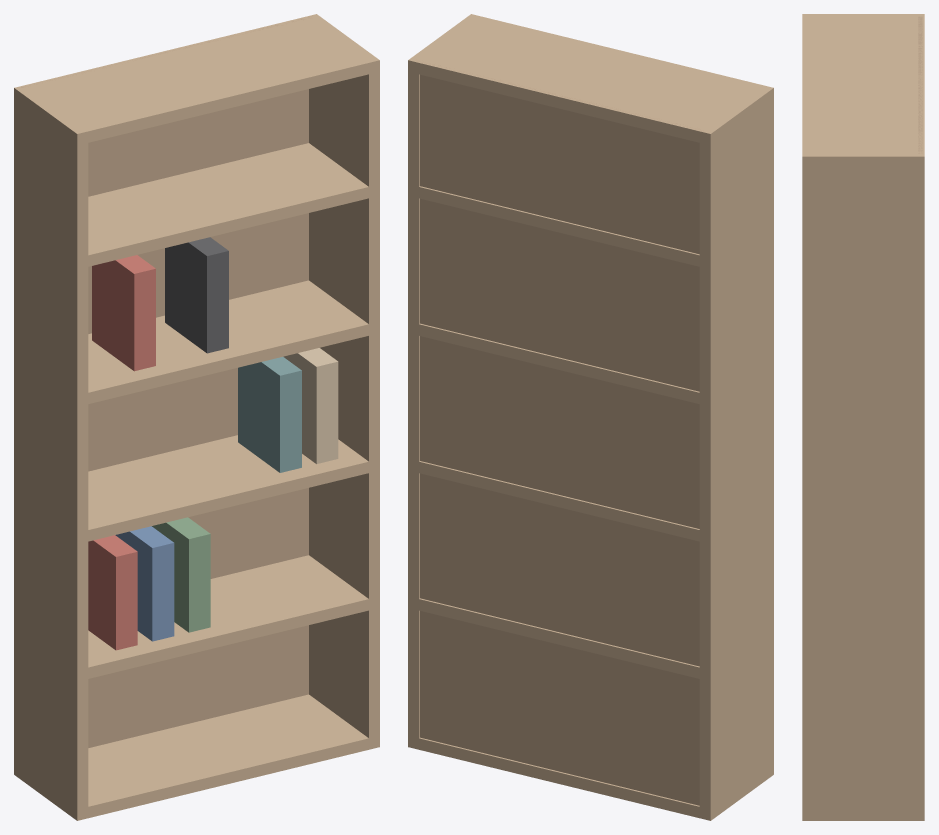
Rendered from bookshelf.glb.
3 renders of one model, left to right at view 1: azimuth 30°, elevation 25°; view 2: azimuth 150°, elevation 25°; view 3: azimuth 270°, elevation 25°, orthographic. The views are drawn at different scales.
Visible parts, largest first — view 1: bookshelf; view 2: bookshelf; view 3: bookshelf.
Part boxes in pixels (x1=…): bookshelf: x1=14, y1=14, x2=379, y2=820; bookshelf: x1=408, y1=14, x2=773, y2=820; bookshelf: x1=802, y1=14, x2=924, y2=820.
Size of the model in its own units: 0.83 by 1.8 by 0.3.
